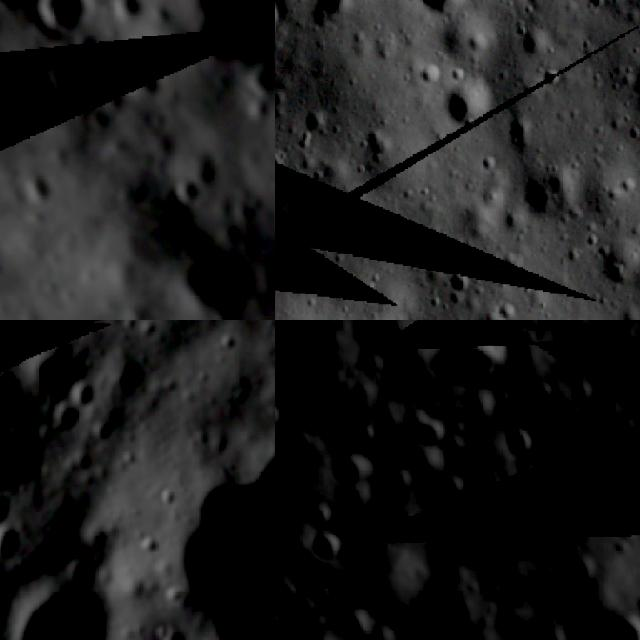crater: (72, 156, 219, 302), (26, 17, 155, 146), (162, 221, 275, 320), (2, 576, 116, 640), (19, 0, 114, 57), (22, 342, 92, 412), (430, 327, 508, 386), (516, 169, 574, 224), (441, 82, 492, 134), (12, 166, 63, 217), (171, 166, 218, 214), (240, 50, 275, 108), (275, 423, 315, 471), (109, 0, 168, 32), (308, 530, 344, 572), (275, 184, 301, 241), (239, 92, 275, 132), (0, 520, 27, 571), (565, 556, 602, 591), (41, 320, 90, 346), (590, 351, 620, 391), (52, 403, 84, 438), (331, 457, 367, 485), (499, 428, 536, 453), (0, 486, 19, 531), (341, 612, 370, 640), (0, 369, 18, 414), (306, 501, 336, 528), (351, 415, 373, 451), (312, 578, 335, 611), (604, 619, 640, 640), (413, 423, 442, 447), (281, 581, 305, 609), (502, 378, 528, 403), (0, 419, 19, 452), (534, 382, 558, 408), (479, 583, 500, 607), (568, 384, 590, 405), (414, 606, 436, 627), (159, 627, 187, 640), (633, 592, 640, 621)
